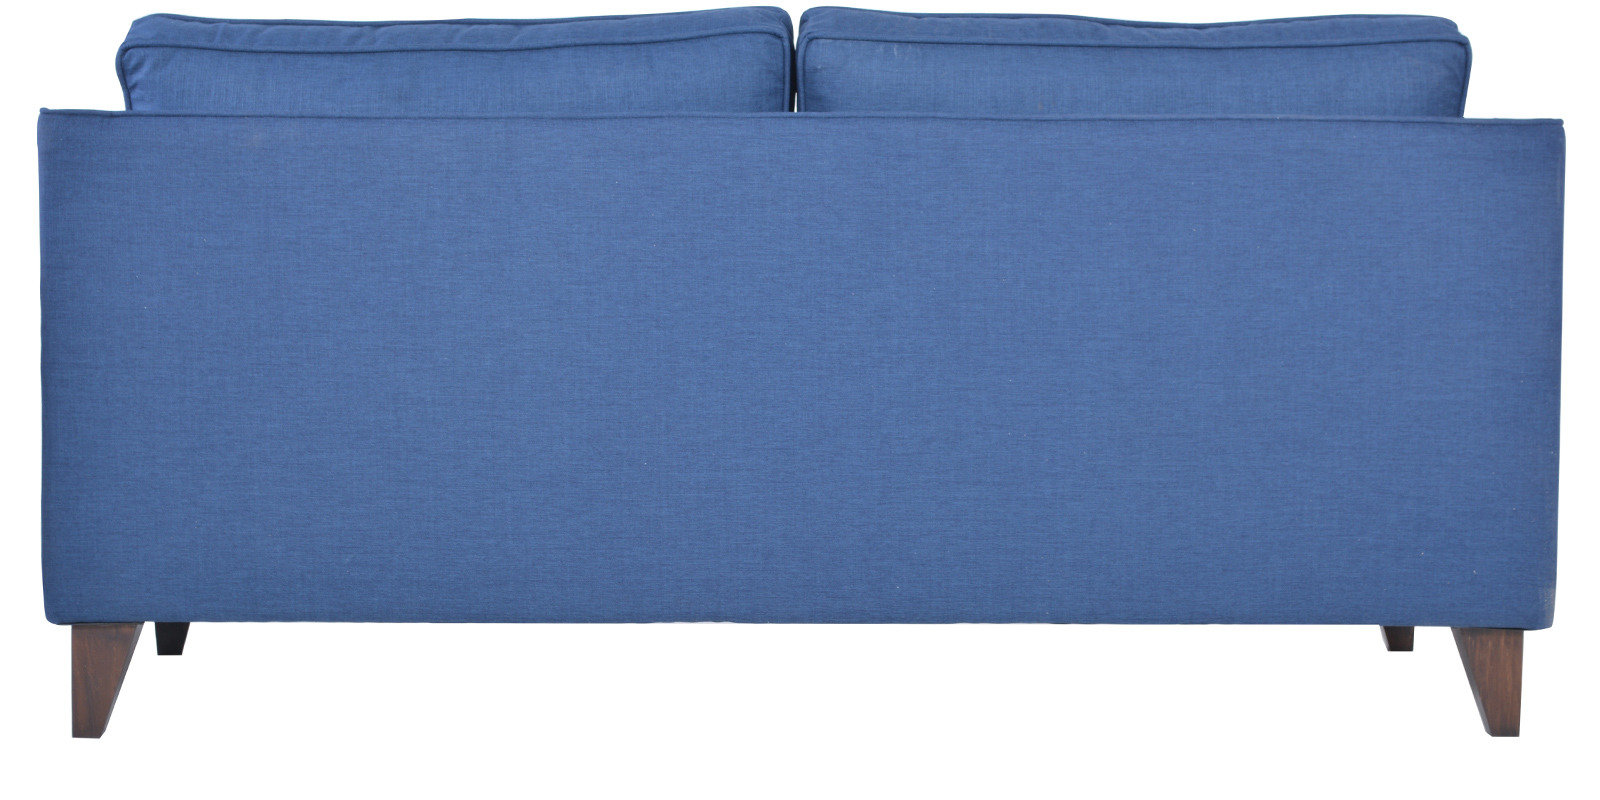Ithaca Impulse Three Seater Sofa with Throw Cushions in Teal Blue Colour by Urba: (24, 10, 1564, 784)
